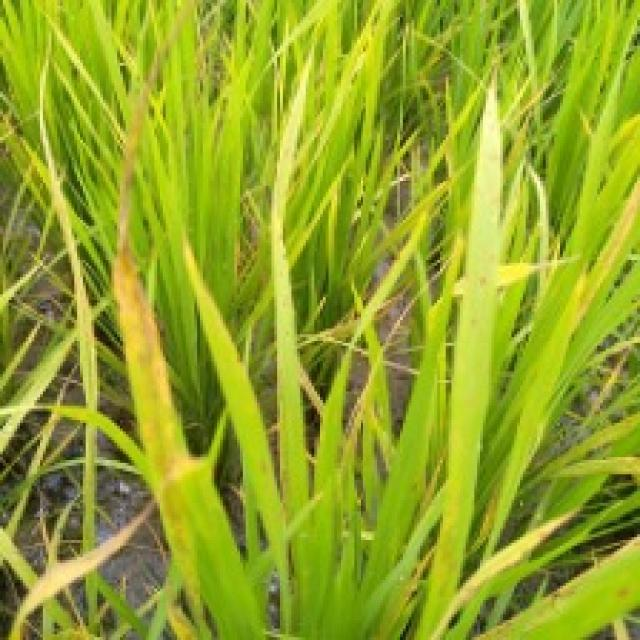Rice___Rice_Blast: (414, 49, 590, 637), (112, 0, 268, 637)
